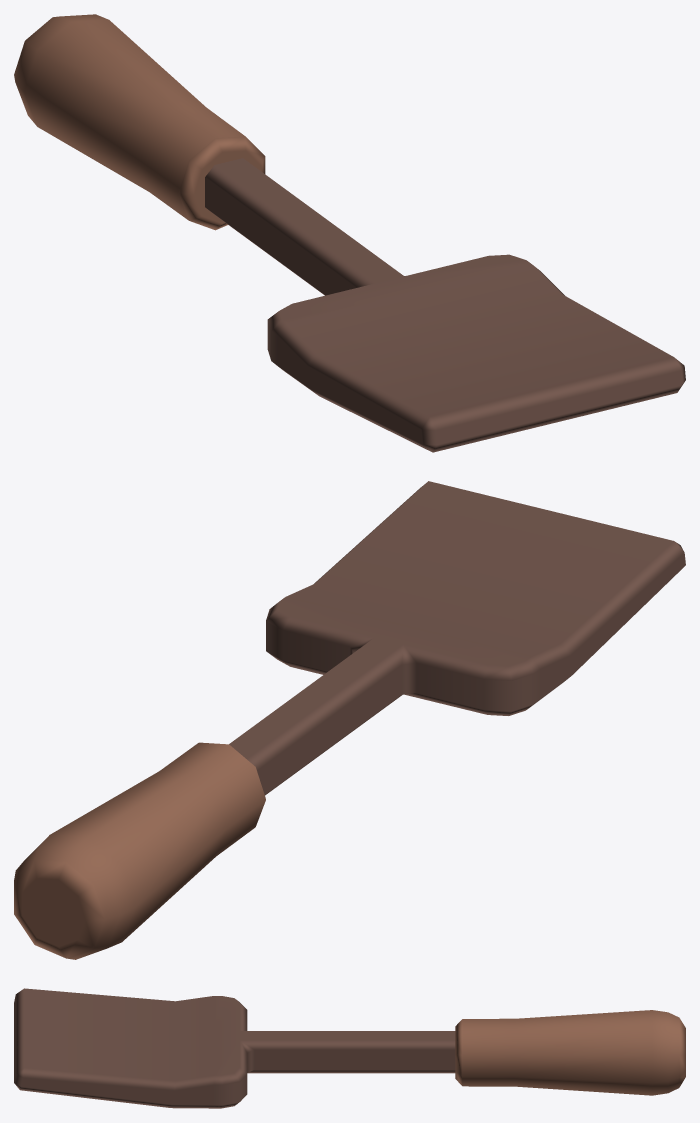
The model's file is Spatula.fbx.
3 views of the same model, one above another, from view 1: azimuth 30°, elevation 25°; view 2: azimuth 150°, elevation 25°; view 3: azimuth 270°, elevation 25° (orthographic). The views are drawn at different scales.
Visible parts, largest first — view 1: Spatula; view 2: Spatula; view 3: Spatula.
Boxes of the visible parts, <box> form: Spatula: <box>14,14,685,452</box>; Spatula: <box>14,481,685,959</box>; Spatula: <box>14,988,685,1108</box>.
Size of the model in its own units: 8.31 by 3.52 by 27.51.
